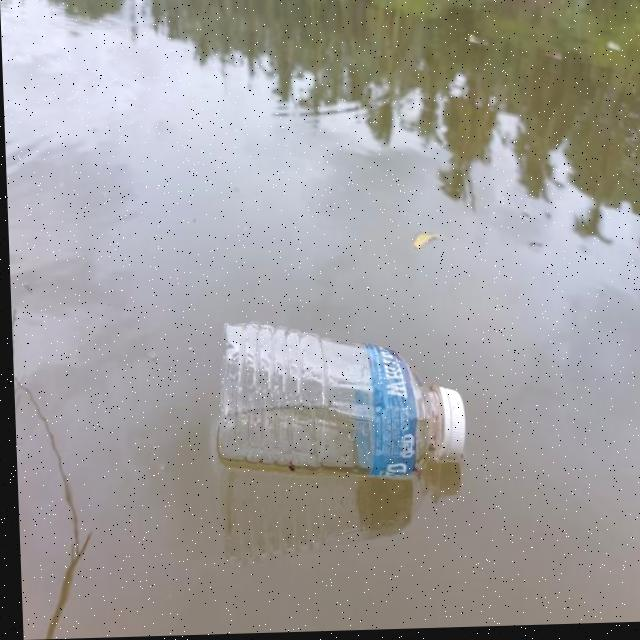waterbottle: (184, 315, 486, 491)
